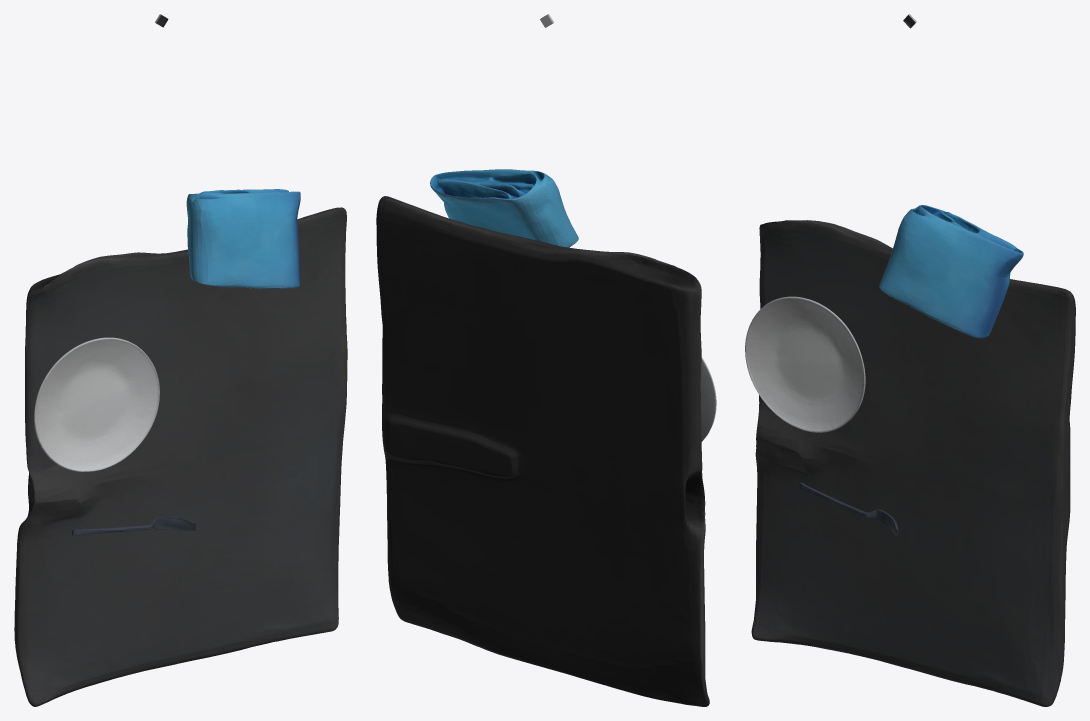
3 views of the same model, side by side, from view 1: azimuth 30°, elevation 25°; view 2: azimuth 150°, elevation 25°; view 3: azimuth 330°, elevation 25° (orthographic). The views are drawn at different scales.
Visible parts, largest first — view 1: image_0001_segmented_geometry_0, image_0003_segmented_geometry_0, image_0002_segmented_geometry_0, image_0004_segmented_geometry_0; view 2: image_0001_segmented_geometry_0, image_0002_segmented_geometry_0, image_0003_segmented_geometry_0; view 3: image_0001_segmented_geometry_0, image_0003_segmented_geometry_0, image_0002_segmented_geometry_0, image_0004_segmented_geometry_0.
Boxes of the visible parts, x1=… form: image_0001_segmented_geometry_0: x1=14, y1=207, x2=347, y2=706; image_0003_segmented_geometry_0: x1=34, y1=337, x2=159, y2=471; image_0002_segmented_geometry_0: x1=186, y1=189, x2=300, y2=288; image_0004_segmented_geometry_0: x1=71, y1=516, x2=195, y2=535; image_0001_segmented_geometry_0: x1=376, y1=196, x2=709, y2=706; image_0002_segmented_geometry_0: x1=430, y1=169, x2=578, y2=247; image_0003_segmented_geometry_0: x1=700, y1=357, x2=716, y2=441; image_0001_segmented_geometry_0: x1=751, y1=220, x2=1075, y2=706; image_0003_segmented_geometry_0: x1=745, y1=296, x2=865, y2=432; image_0002_segmented_geometry_0: x1=879, y1=205, x2=1023, y2=338; image_0004_segmented_geometry_0: x1=799, y1=482, x2=898, y2=536.
Bounding box in the file's own units: 0.1753 × 0.3358 × 0.0368.
5 materials, 5 textured.
